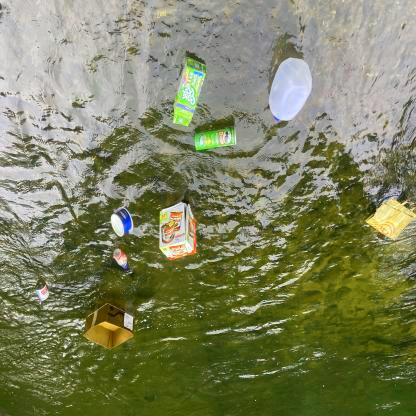Metal: (191, 122, 238, 154), (33, 282, 50, 302)
Plastic: (266, 56, 314, 124), (109, 248, 130, 271)
Trash: (363, 190, 416, 245), (108, 204, 136, 239)
